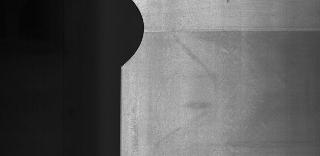welding line: (140, 27, 320, 36)
